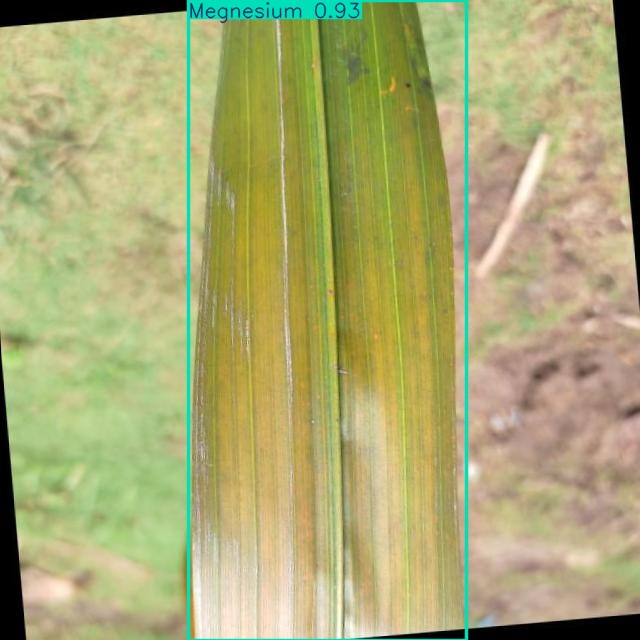Megnesium: (188, 0, 466, 640)
